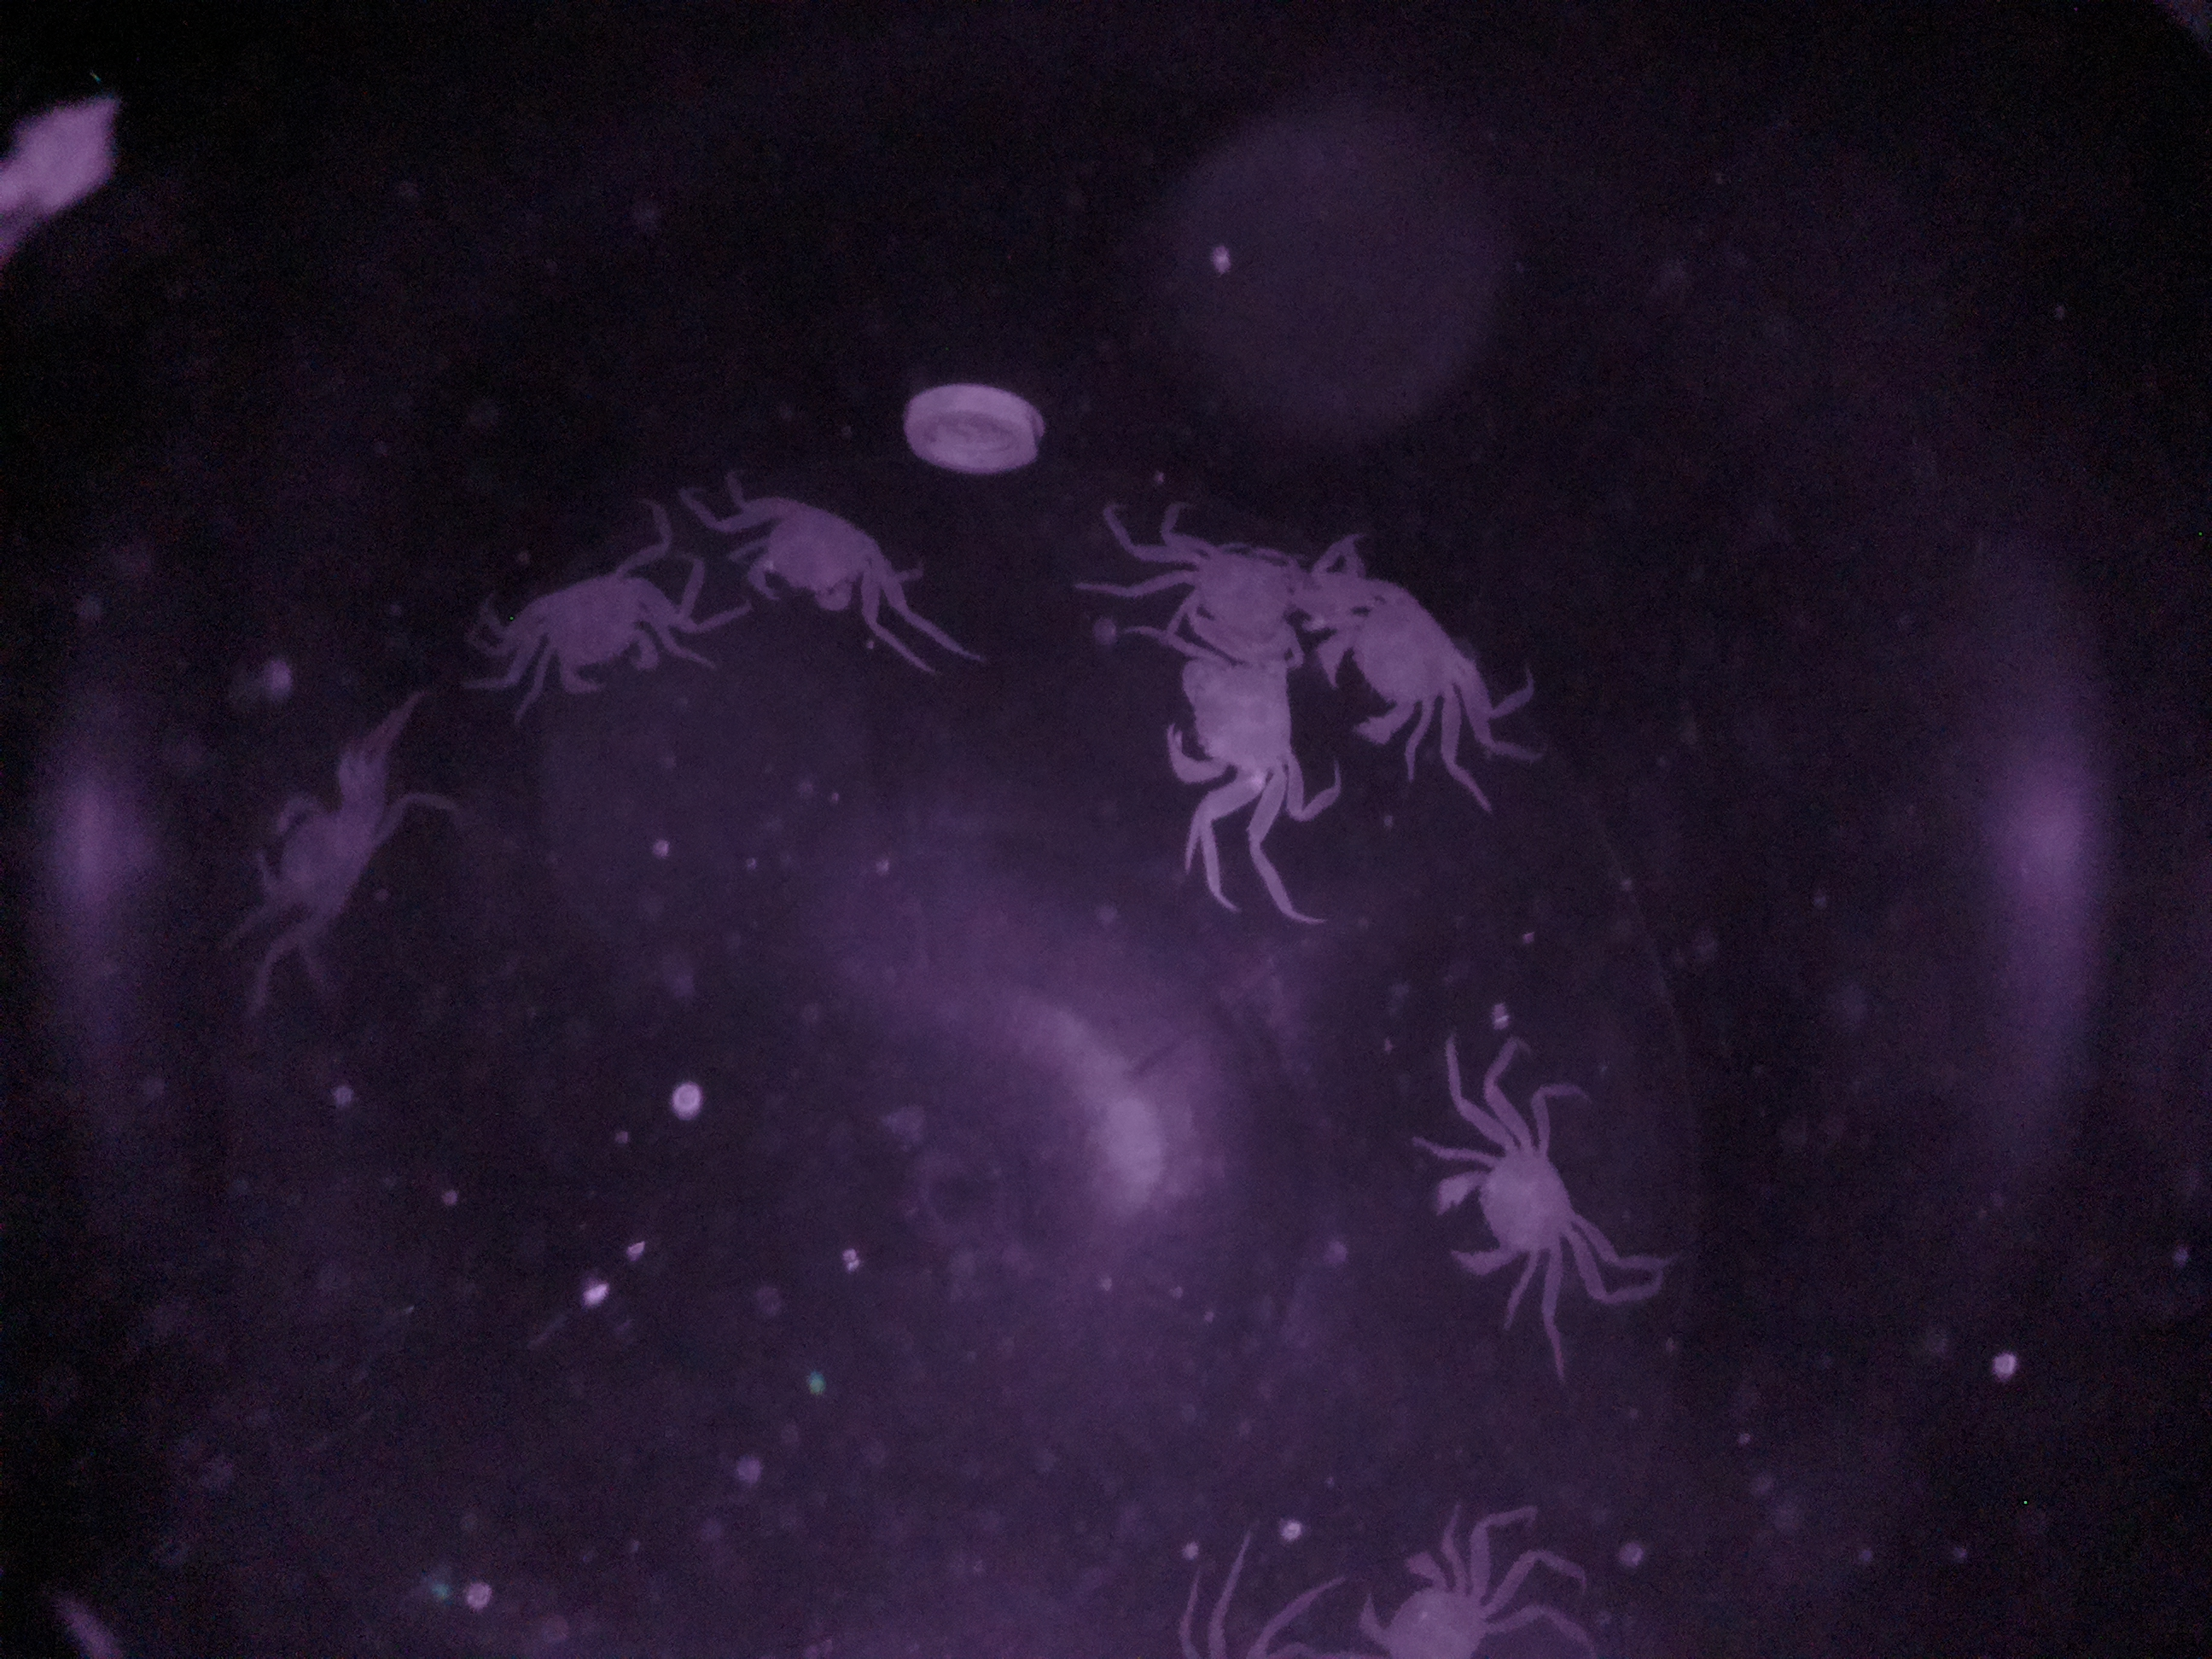Crab: (1411, 1100, 1623, 1310), (486, 544, 716, 718), (1299, 549, 1475, 758), (726, 488, 935, 650)
